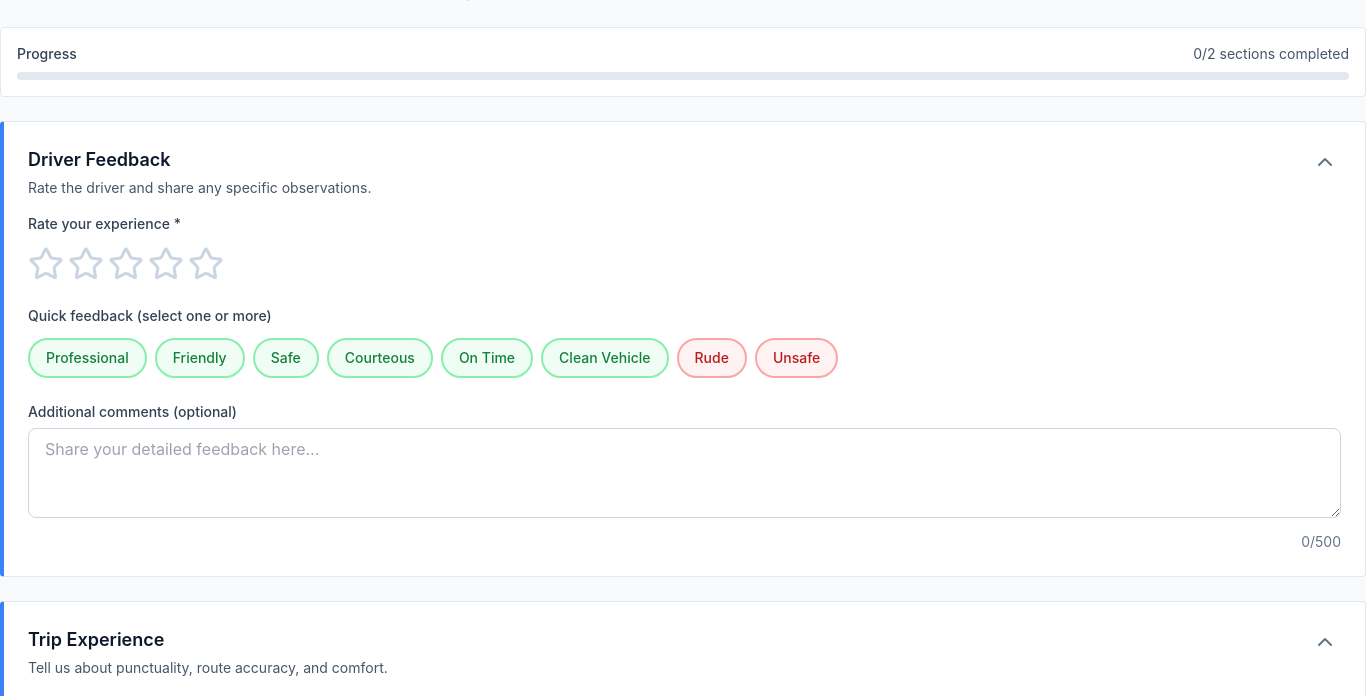
Feedback Submission Flow › should update form state when rating is selected
The image size is (1366, 696).
Step 1. Click the radio button named "5 stars" → point(206, 264), box [188,246,224,282]
(page scrolled)
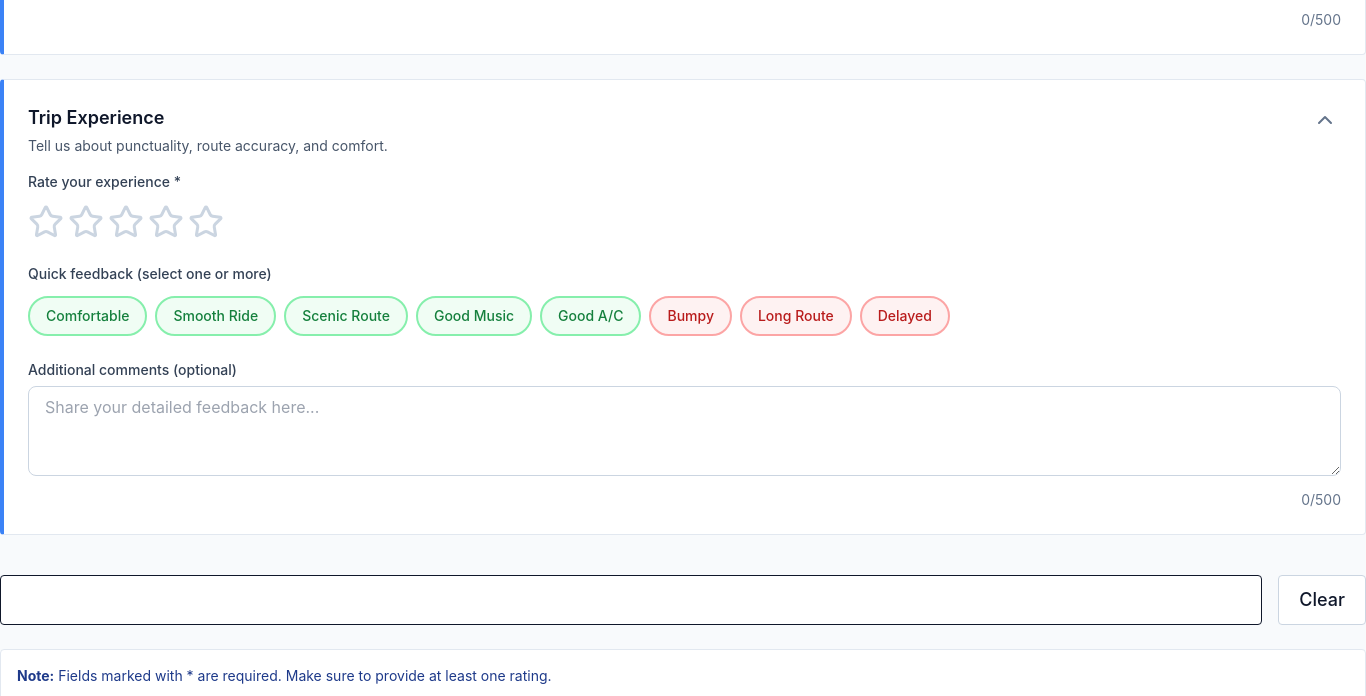
Check: the button "Submit Feedback" is enabled, box [0,575,1262,625]
